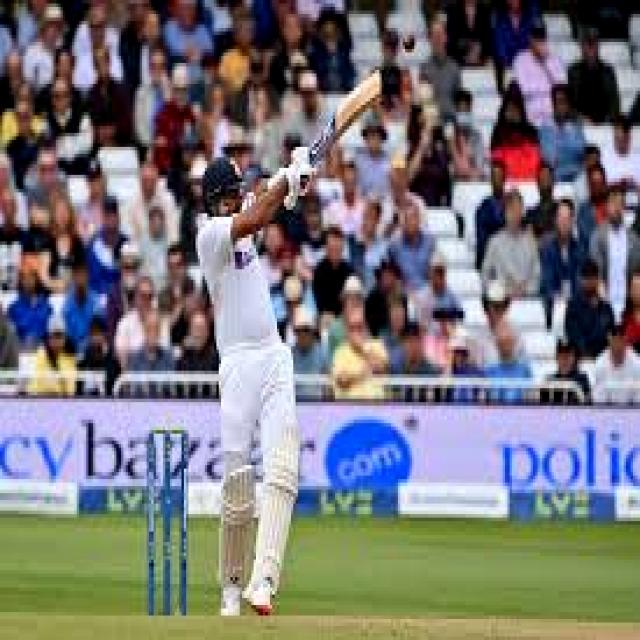toe: (372, 63, 385, 102)
